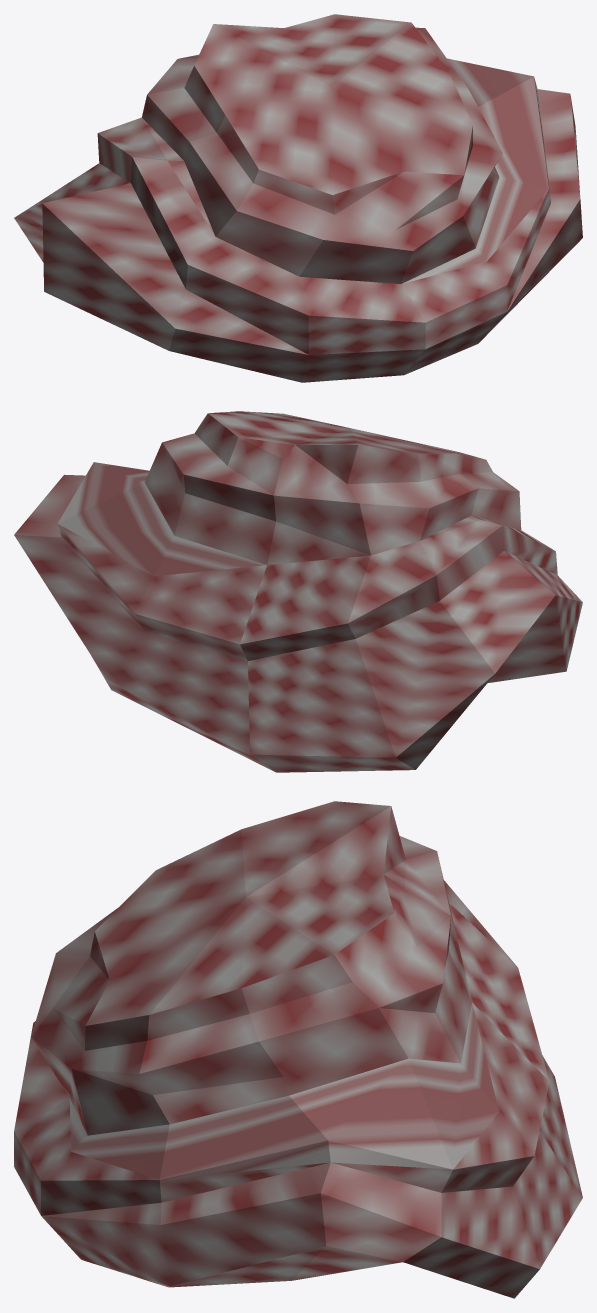
The model's file is SM_Chr_Attach_Insurgent_Neck_01.fbx.
3 views of the same model, one above another, from view 1: azimuth 30°, elevation 25°; view 2: azimuth 150°, elevation 25°; view 3: azimuth 270°, elevation 25° (orthographic). The views are drawn at different scales.
Visible parts, largest first — view 1: SM_Chr_Attach_Insurgent_Neck_01; view 2: SM_Chr_Attach_Insurgent_Neck_01; view 3: SM_Chr_Attach_Insurgent_Neck_01.
Part boxes in pixels (x1,y1,x2,y2): SM_Chr_Attach_Insurgent_Neck_01: (14,14,582,382); SM_Chr_Attach_Insurgent_Neck_01: (14,411,582,772); SM_Chr_Attach_Insurgent_Neck_01: (14,801,582,1298).
Bounding box in the file's own units: 44.88 × 24.45 × 31.25.
